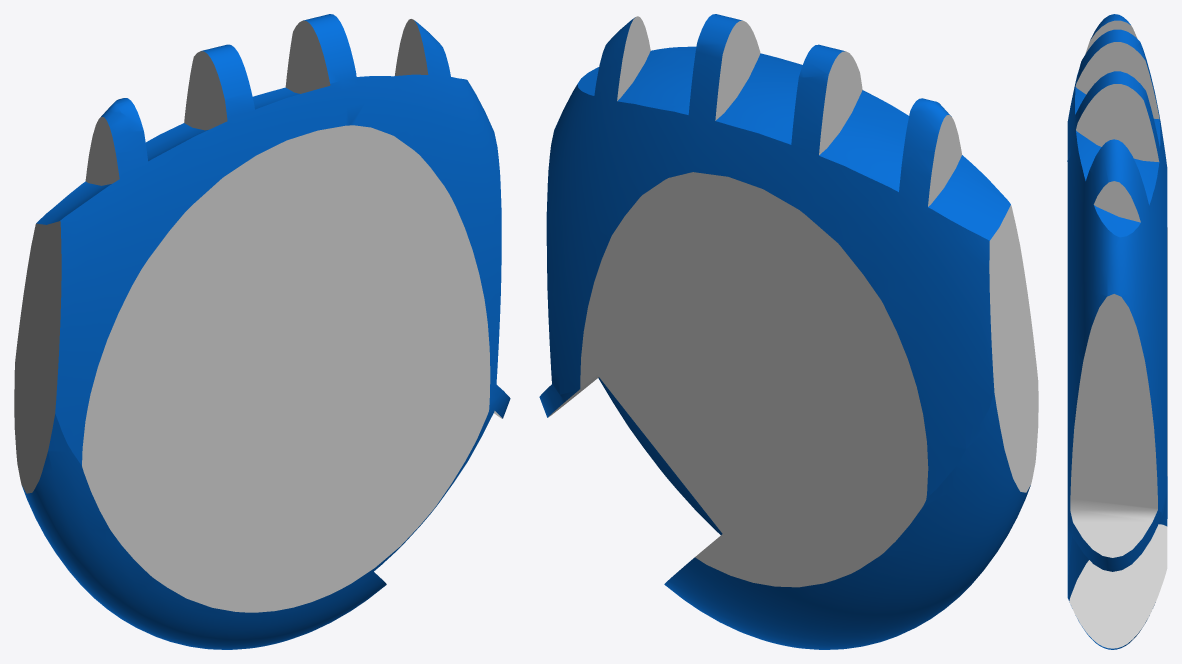
File: anthro-palm.glb
3 renders of one model, left to right at view 1: azimuth 30°, elevation 25°; view 2: azimuth 150°, elevation 25°; view 3: azimuth 270°, elevation 25°, orthographic. The views are drawn at different scales.
Visible parts, largest first — view 1: EndPhalange; view 2: EndPhalange; view 3: EndPhalange.
Part boxes in pixels (x1,y1,x2,y2): EndPhalange: [14, 14, 510, 649]; EndPhalange: [539, 14, 1038, 649]; EndPhalange: [1067, 14, 1167, 649].
Size of the model in its own units: 1.57 by 1.89 by 0.2991.
